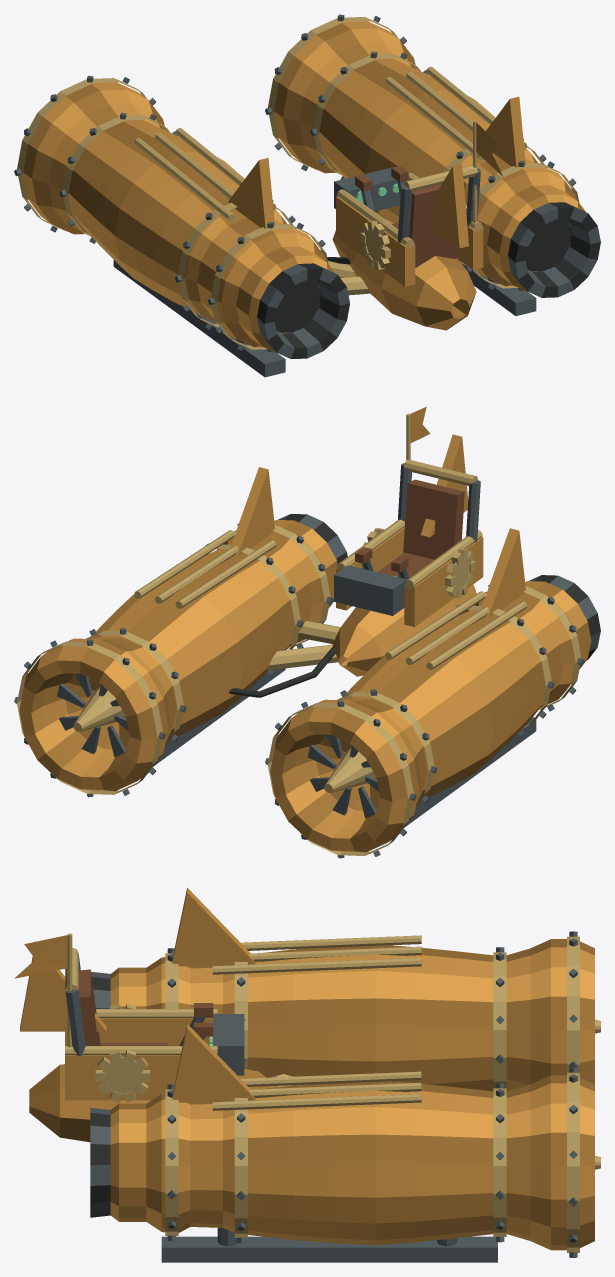
File: dug-racer.glb
The picture shows the model from 3 angles, top to bottom: view 1: azimuth 30°, elevation 25°; view 2: azimuth 150°, elevation 25°; view 3: azimuth 270°, elevation 25°; orthographic projection. The views are drawn at different scales.
Visible parts, largest first — view 1: Faceted engine casing, Faceted engine casing.001, Cockpit belly, Hollow exhaust.001, Hollow exhaust, Cockpit side armor.001, Landing skid, Tall seat back, Tail rudder, Engine dorsal fin, Engine dorsal fin.001, Exhaust recess (+22 smaller); view 2: Faceted engine casing, Faceted engine casing.001, Cockpit belly, Tall seat back, Instrument cowl, Cockpit side armor.001, Engine dorsal fin, Engine dorsal fin.001, Riveted hoop.007, Riveted hoop.003, Hollow exhaust, Intake hub (+24 smaller); view 3: Faceted engine casing.001, Faceted engine casing, Landing skid.001, Engine dorsal fin, Engine dorsal fin.001, Cockpit belly, Cockpit side armor, Tail rudder, Cockpit side armor.001, Hollow exhaust.001, Riveted hoop.007, Top cooling pipe.002 (+20 smaller).
Boxes of the visible parts, <box> form: Faceted engine casing: <box>23,82,334,352</box>; Faceted engine casing.001: <box>273,21,585,291</box>; Cockpit belly: <box>332,211,476,330</box>; Hollow exhaust.001: <box>508,202,600,297</box>; Hollow exhaust: <box>257,263,349,358</box>; Cockpit side armor.001: <box>336,196,415,286</box>; Landing skid: <box>113,260,285,377</box>; Tall seat back: <box>409,182,464,267</box>; Tail rudder: <box>432,164,468,248</box>; Engine dorsal fin: <box>228,158,274,228</box>; Engine dorsal fin.001: <box>485,96,525,167</box>; Exhaust recess: <box>274,279,320,332</box>; Faceted engine casing: <box>270,581,591,852</box>; Faceted engine casing.001: <box>19,520,337,791</box>; Cockpit belly: <box>332,584,476,676</box>; Tall seat back: <box>403,479,464,559</box>; Instrument cowl: <box>334,565,406,615</box>; Cockpit side armor.001: <box>404,536,483,627</box>; Engine dorsal fin: <box>481,528,525,617</box>; Engine dorsal fin.001: <box>230,467,274,556</box>; Riveted hoop.007: <box>17,641,162,794</box>; Riveted hoop.003: <box>267,702,413,855</box>; Hollow exhaust: <box>529,575,600,660</box>; Intake hub: <box>324,748,376,792</box>; Faceted engine casing.001: <box>110,1075,594,1250</box>; Faceted engine casing: <box>110,939,594,1091</box>; Landing skid.001: <box>161,1236,497,1262</box>; Engine dorsal fin: <box>172,887,255,966</box>; Engine dorsal fin.001: <box>172,1024,255,1102</box>; Cockpit belly: <box>29,1064,278,1142</box>; Cockpit side armor: <box>65,1055,180,1100</box>; Tail rudder: <box>20,941,106,1031</box>; Cockpit side armor.001: <box>65,1018,213,1045</box>; Hollow exhaust.001: <box>90,1108,110,1217</box>; Riveted hoop.007: <box>567,1072,579,1252</box>; Top cooling pipe.002: <box>212,958,421,974</box>.
Size of the model in its own units: 5.03 by 2.95 by 5.76.
